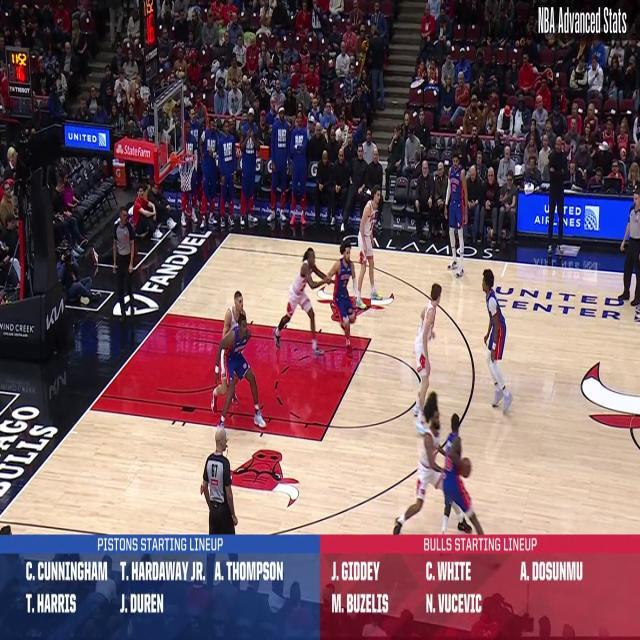ball: (458, 442, 476, 482)
player: (393, 388, 447, 542), (210, 307, 267, 433), (272, 245, 332, 358), (439, 405, 486, 538), (208, 284, 249, 414), (481, 266, 514, 416), (412, 281, 442, 434), (325, 236, 359, 360), (354, 182, 384, 310), (445, 152, 470, 284)
